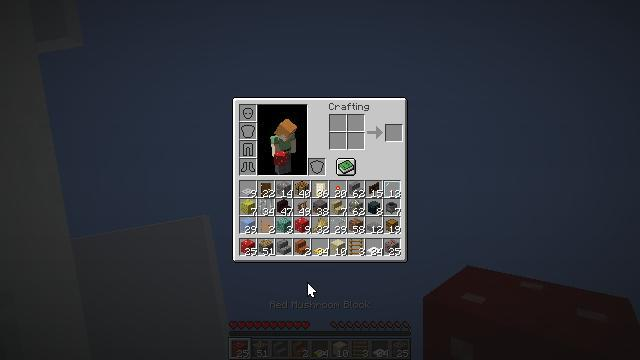cursor: (282, 307, 298, 317)
